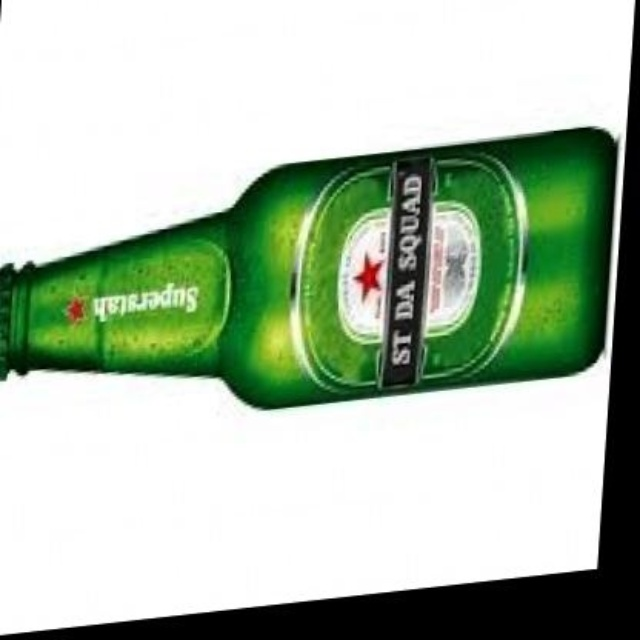trash: (0, 128, 614, 406)
